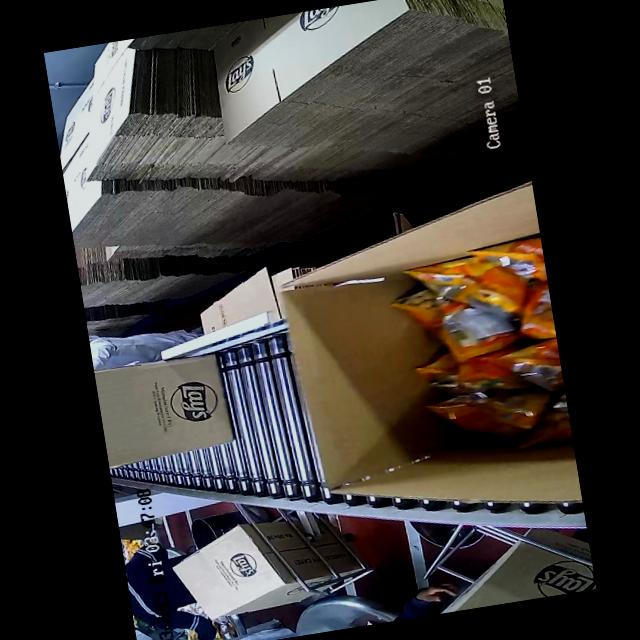cheese: (385, 227, 573, 466)
